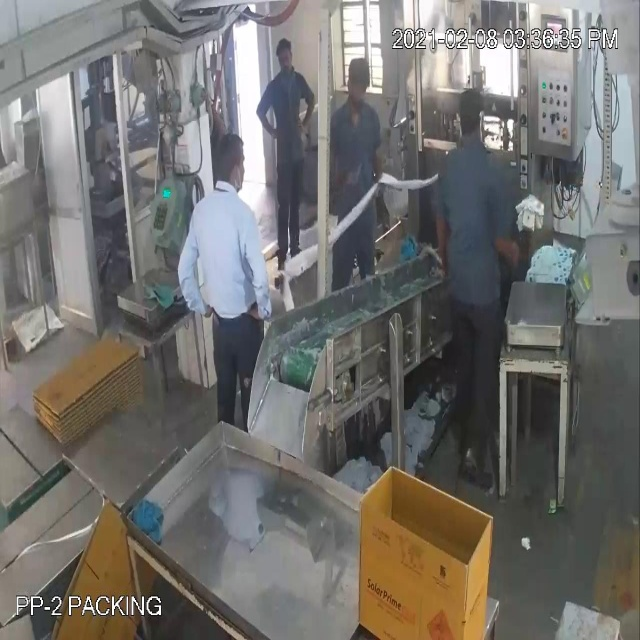Sin_guantes: (240, 211, 275, 329), (169, 228, 209, 324), (435, 192, 452, 284), (255, 81, 282, 135), (300, 74, 316, 146)
